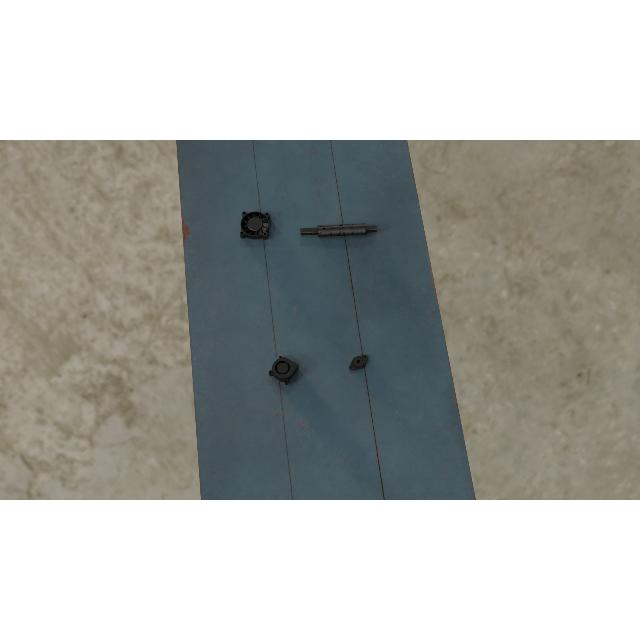Pieza1: (300, 220, 378, 240)
Pieza2: (345, 350, 371, 374)
Pieza3: (267, 354, 299, 386)
Pieza4: (240, 212, 270, 240)
